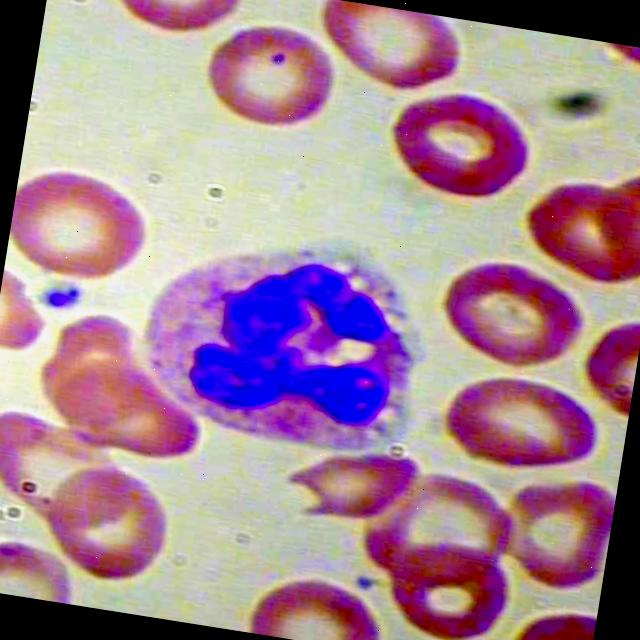Platelets: (32, 280, 90, 318)
RBC: (429, 237, 602, 386), (3, 160, 164, 303), (435, 361, 612, 487), (383, 76, 543, 210), (192, 9, 352, 142), (38, 456, 185, 596), (484, 465, 618, 603), (315, 0, 471, 105), (514, 173, 640, 294), (242, 566, 399, 640), (100, 0, 254, 45), (0, 531, 86, 605), (495, 592, 598, 640)
WBC: (121, 211, 440, 473)
